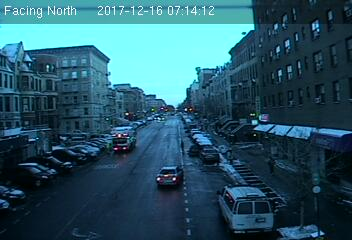car: (155, 166, 183, 186), (201, 148, 220, 163)
police: (215, 183, 274, 236)
truck: (109, 126, 138, 151)
